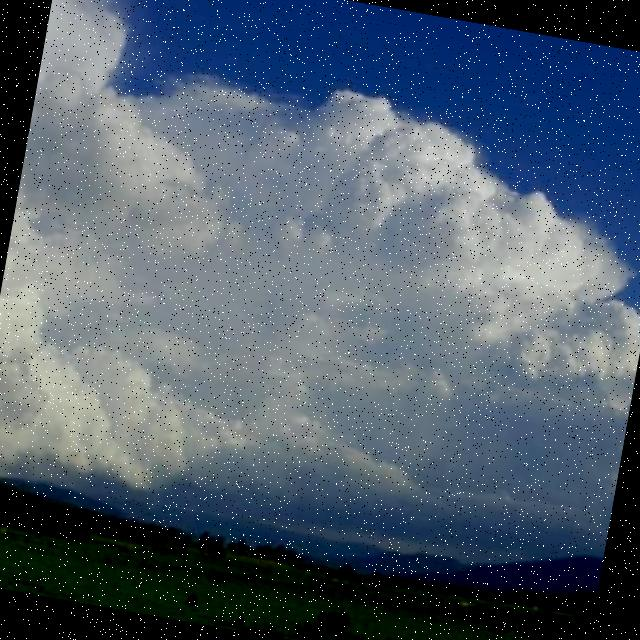Cb: (1, 1, 640, 520)
